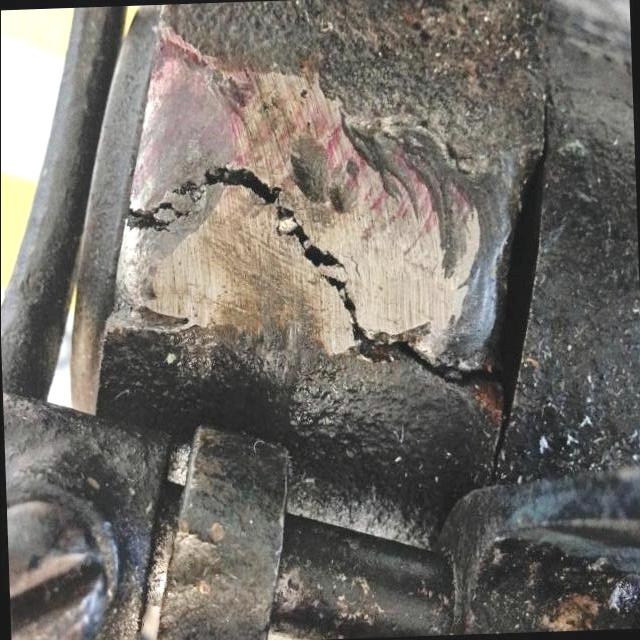defect: (114, 153, 512, 397)
